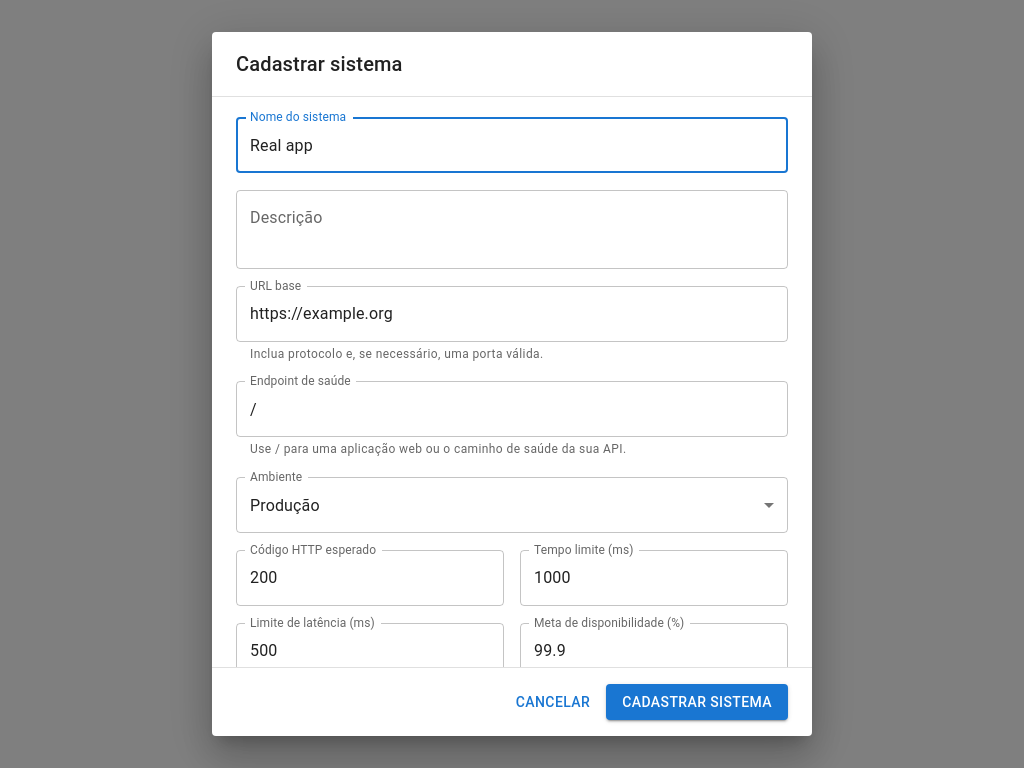
Scenario: System form › rejects non HTTP URLs before submitting
Replace the text in the field labelled "URL base" with "file:///etc/passwd": (512, 314) [236,286,788,342]
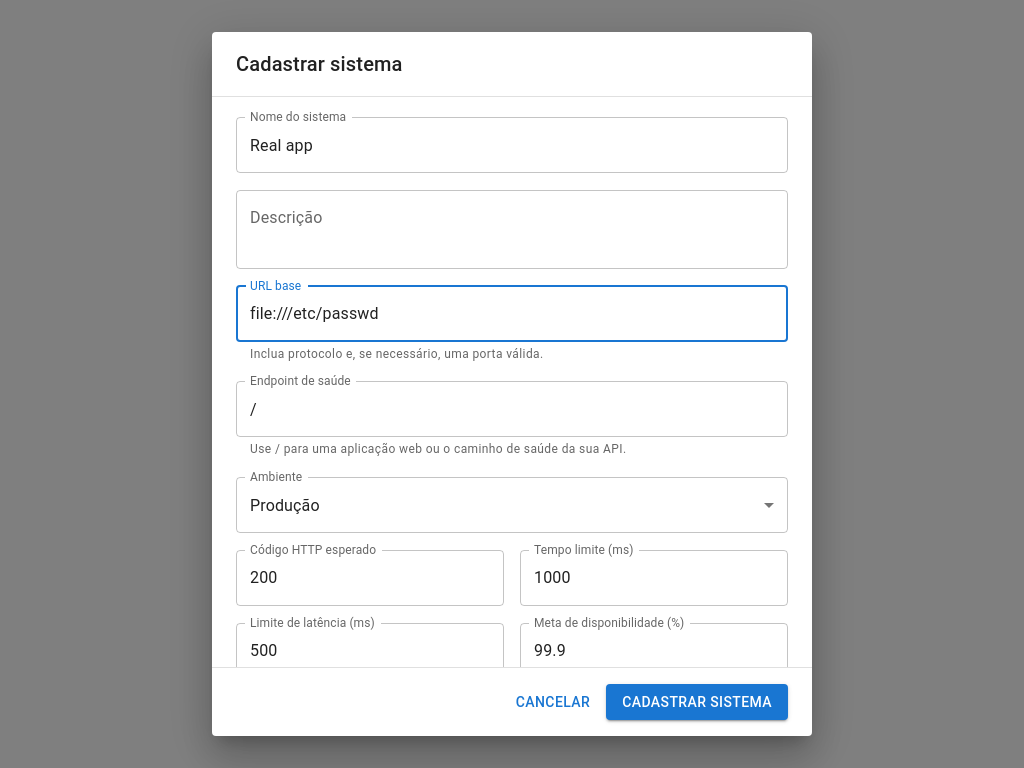
Click the button "Cadastrar sistema": (697, 702) [606,684,788,720]
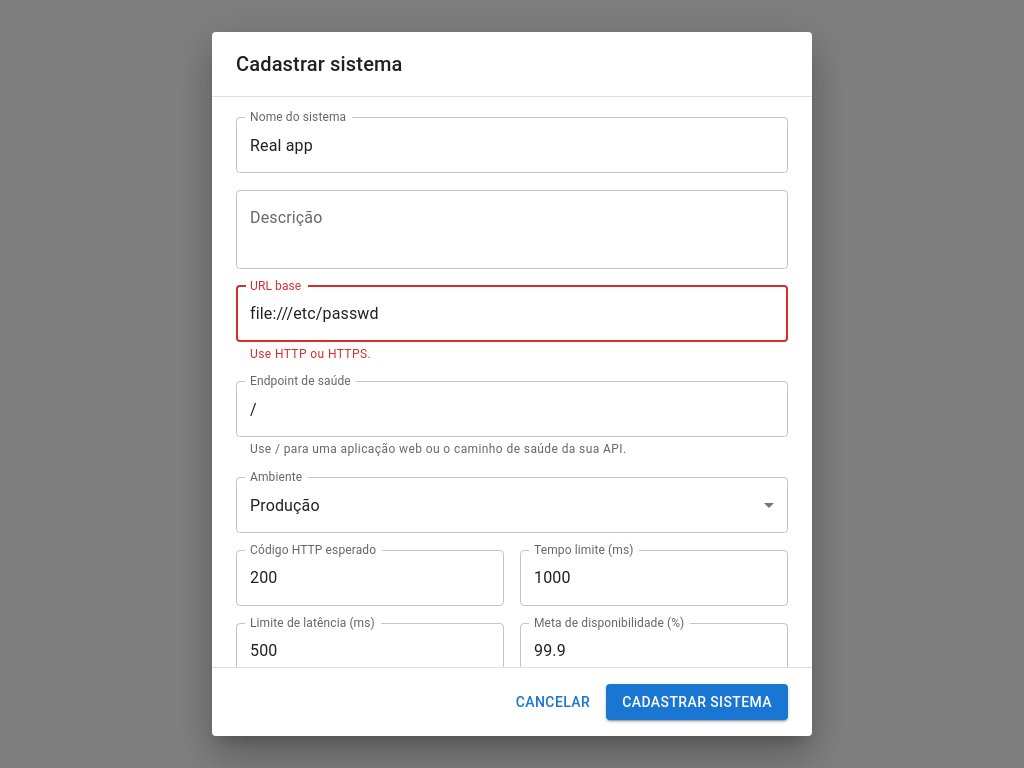
Now the text "Use HTTP ou HTTPS." is shown, box [250,347,371,361]
